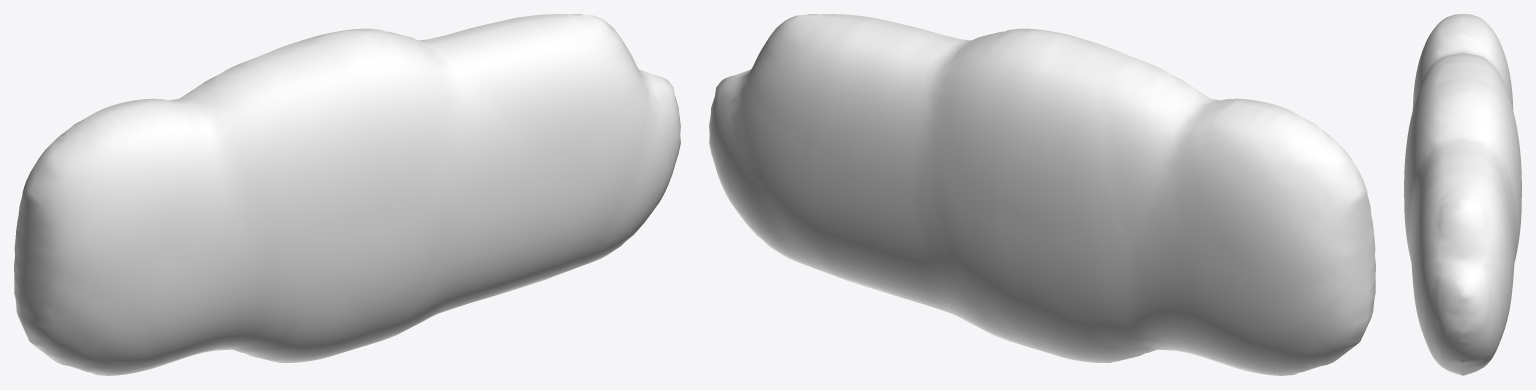
Rendered from cloud.fbx.
3 views of the same model, side by side, from view 1: azimuth 30°, elevation 25°; view 2: azimuth 150°, elevation 25°; view 3: azimuth 270°, elevation 25° (orthographic). The views are drawn at different scales.
Parts seen in each view (by area): view 1: root; view 2: root; view 3: root.
Part boxes in pixels (x1,y1,x2,y2): root: [14, 14, 680, 375]; root: [709, 14, 1375, 375]; root: [1404, 14, 1521, 375].
Bounding box in the file's own units: 0.7873 × 0.3533 × 0.1695.
1 material, 1 textured.
